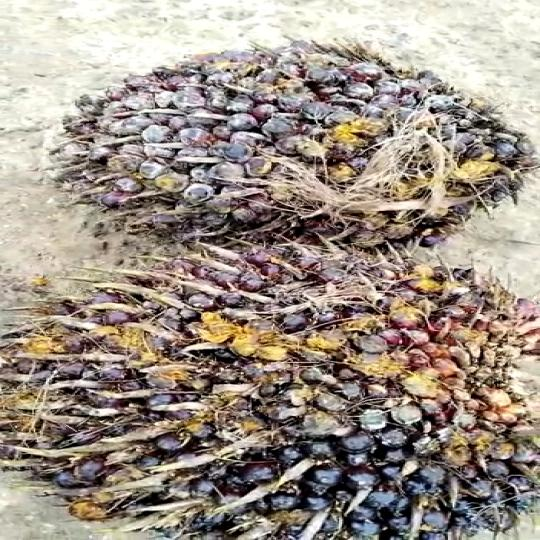kurang masak: (0, 249, 540, 540), (59, 39, 536, 238)
